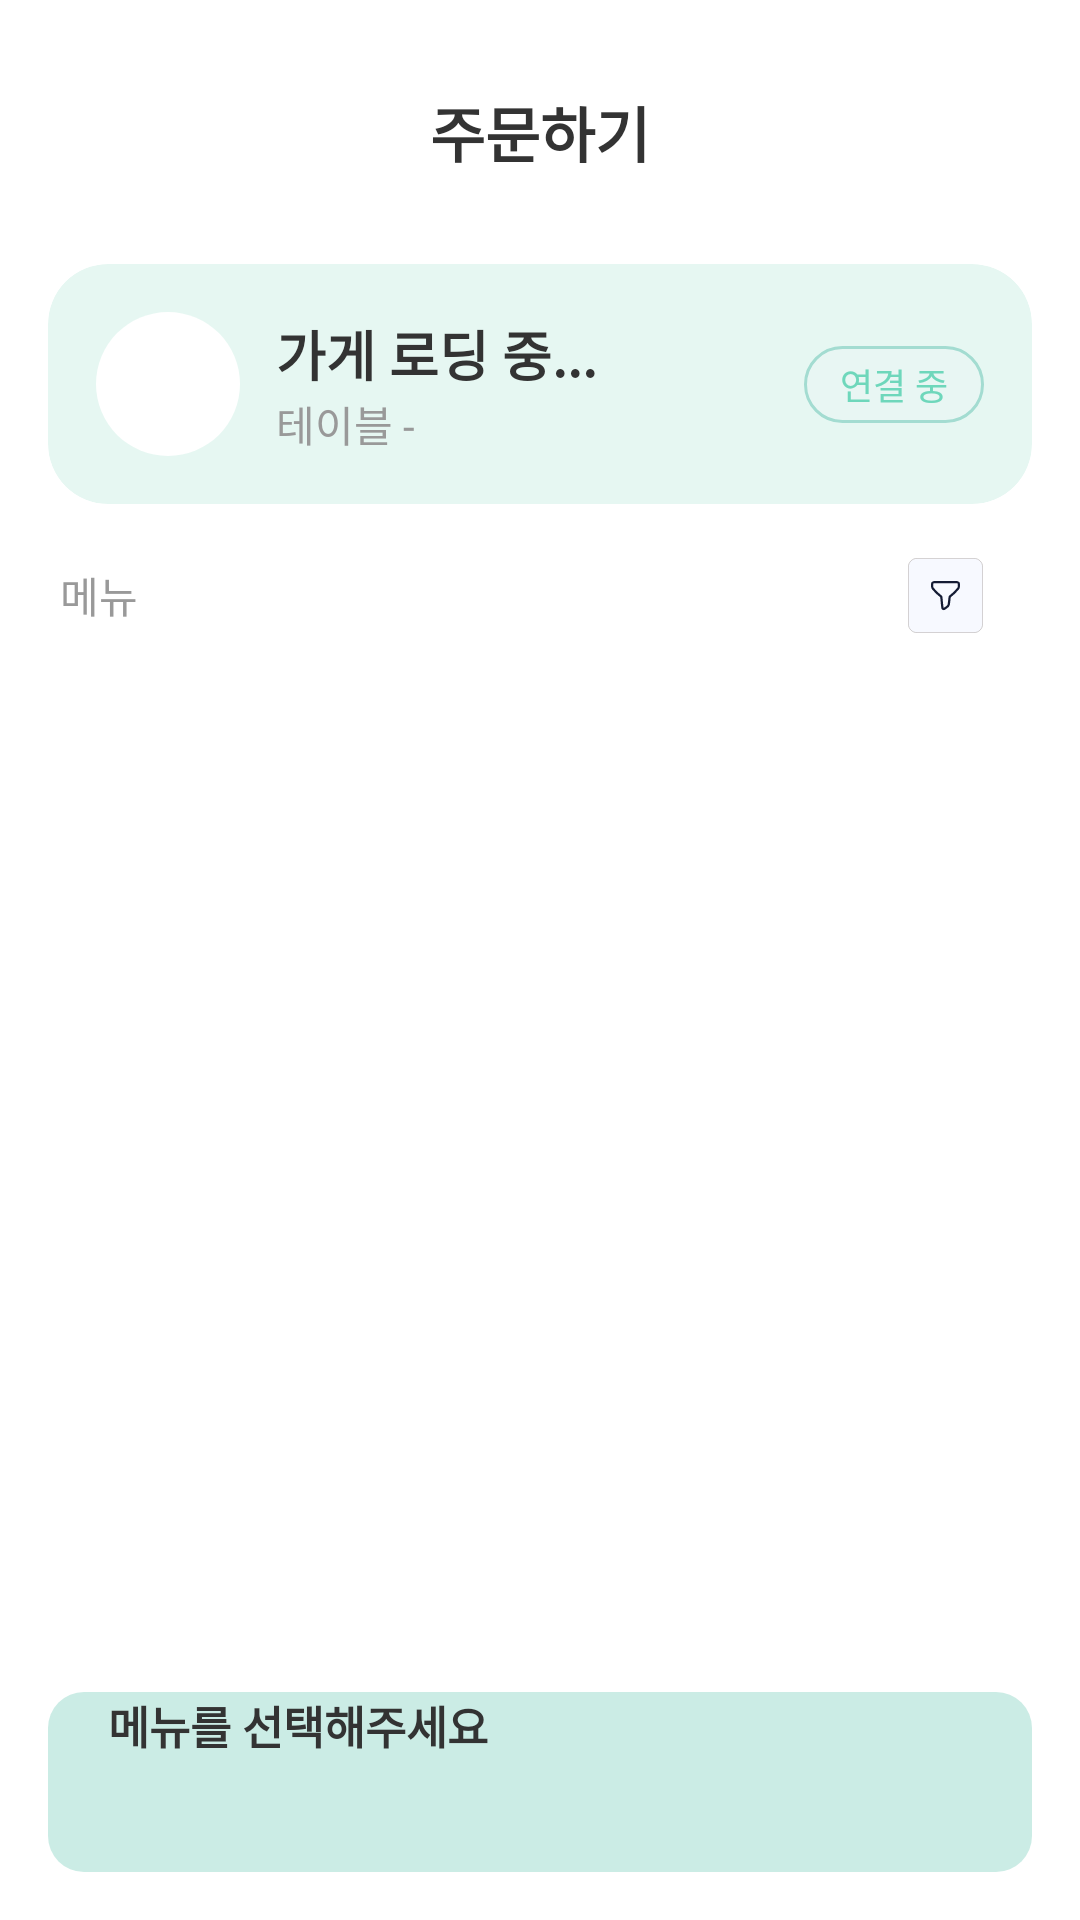

Screen size 1080px x 1920px. Icon name, then its center in pixels as (x,y):
filter: (945,595)
